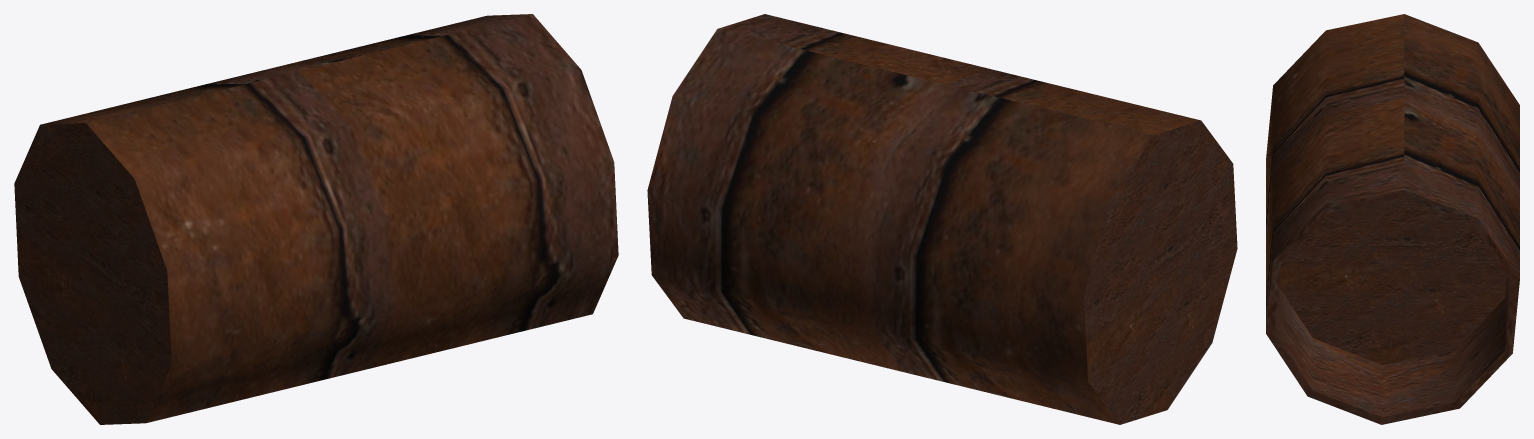
The model's file is Bochka.FBX.
3 views of the same model, side by side, from view 1: azimuth 30°, elevation 25°; view 2: azimuth 150°, elevation 25°; view 3: azimuth 270°, elevation 25° (orthographic). The views are drawn at different scales.
Visible parts, largest first — view 1: Bochka; view 2: Bochka; view 3: Bochka.
Boxes of the visible parts, x1=… form: Bochka: x1=14, y1=14, x2=618, y2=424; Bochka: x1=647, y1=14, x2=1237, y2=424; Bochka: x1=1266, y1=14, x2=1519, y2=424.
Bounding box in the file's own units: 24.46 × 15.25 × 14.92.
1 material, 1 textured.
